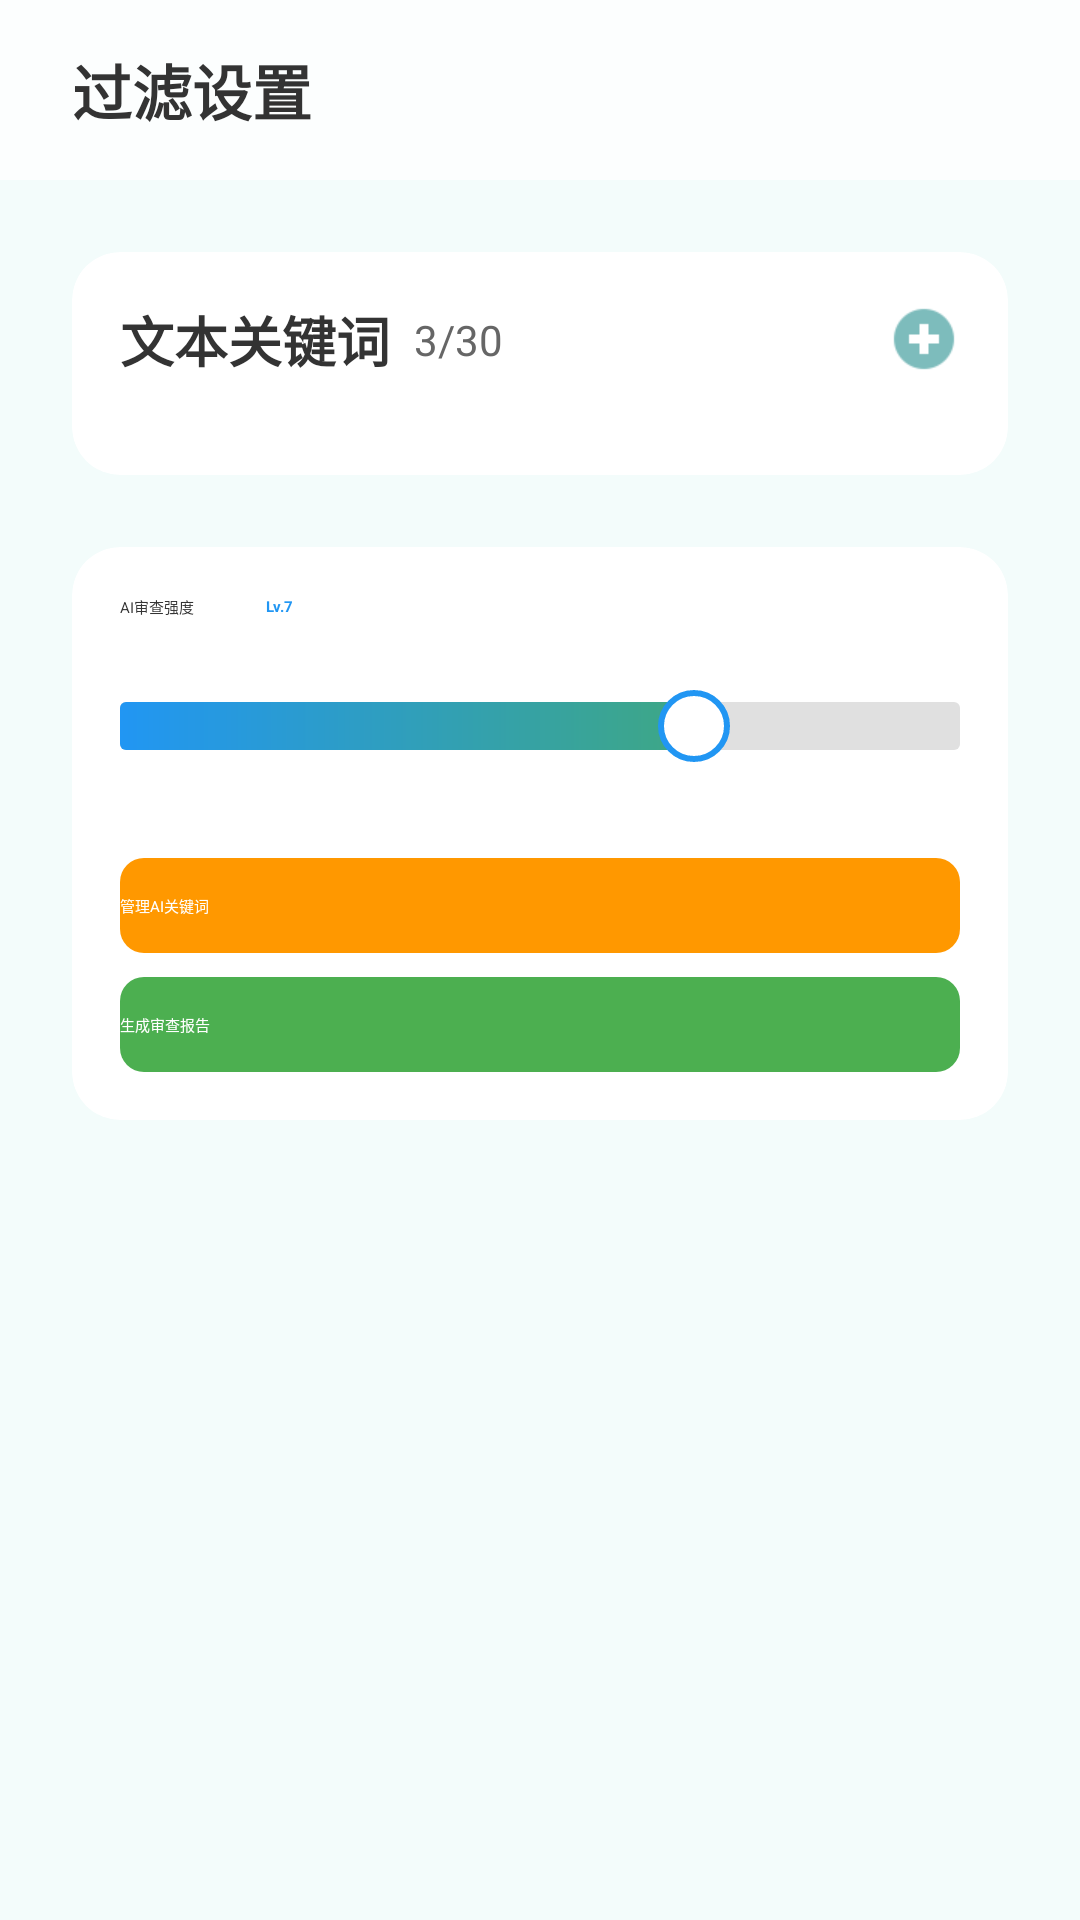

Where to tap for icons on this 1080 x 1920 app screen, as [x,y]:
add: [924,339]
